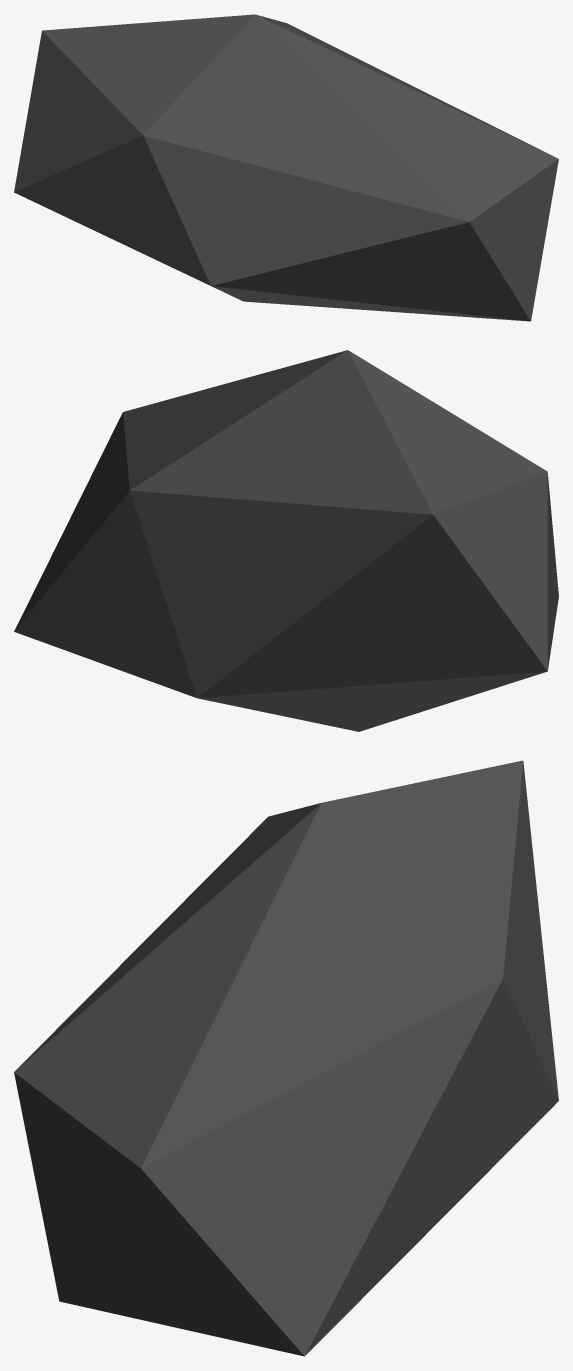
File: Rock_01.fbx
The picture shows the model from 3 angles, top to bottom: view 1: azimuth 30°, elevation 25°; view 2: azimuth 150°, elevation 25°; view 3: azimuth 270°, elevation 25°; orthographic projection. The views are drawn at different scales.
Visible parts, largest first — view 1: Rock_01; view 2: Rock_01; view 3: Rock_01.
Part boxes in pixels (box(x1,y1,x2,y2)): Rock_01: box(14, 14, 558, 321); Rock_01: box(14, 350, 558, 731); Rock_01: box(14, 760, 558, 1356).
Bounding box in the file's own units: 3.88 × 2.33 × 2.96.
